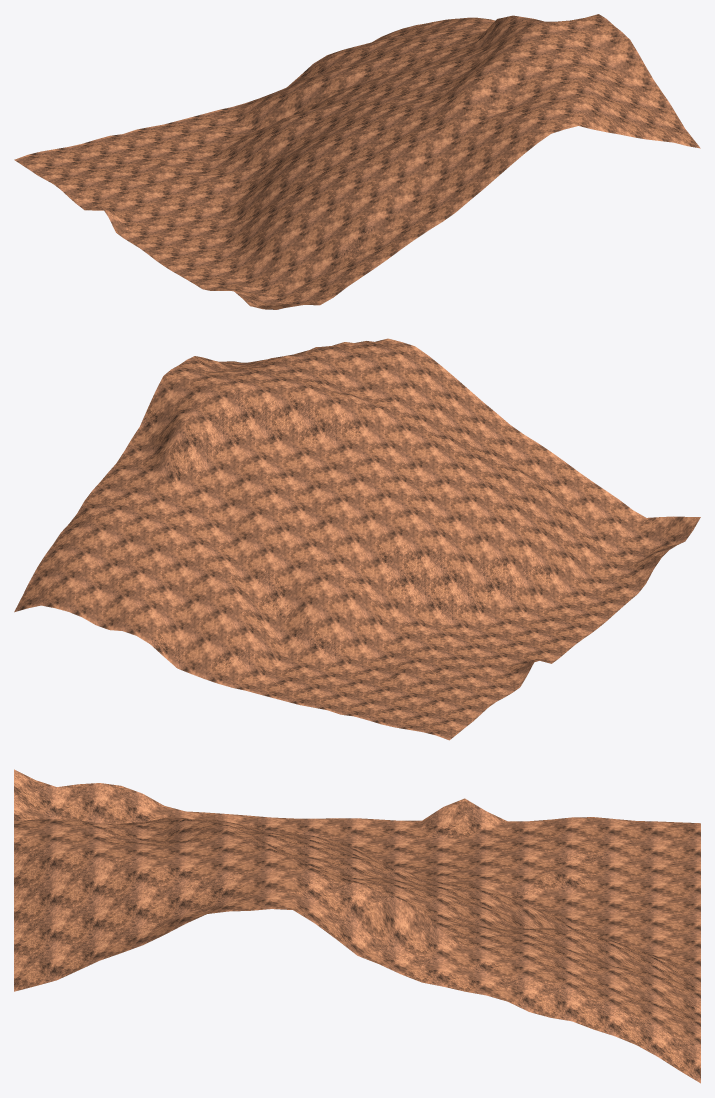
File: terrain_06_02.dae
3 views of the same model, one above another, from view 1: azimuth 30°, elevation 25°; view 2: azimuth 150°, elevation 25°; view 3: azimuth 270°, elevation 25° (orthographic). The views are drawn at different scales.
Visible parts, largest first — view 1: terrain_06_02-node; view 2: terrain_06_02-node; view 3: terrain_06_02-node.
Part boxes in pixels (<box>): terrain_06_02-node: <box>14,14,700,309</box>; terrain_06_02-node: <box>14,338,700,740</box>; terrain_06_02-node: <box>14,769,700,1083</box>.
Size of the model in its own units: 128 by 128 by 43.11.
Materials: 1 (1 with a texture image).
